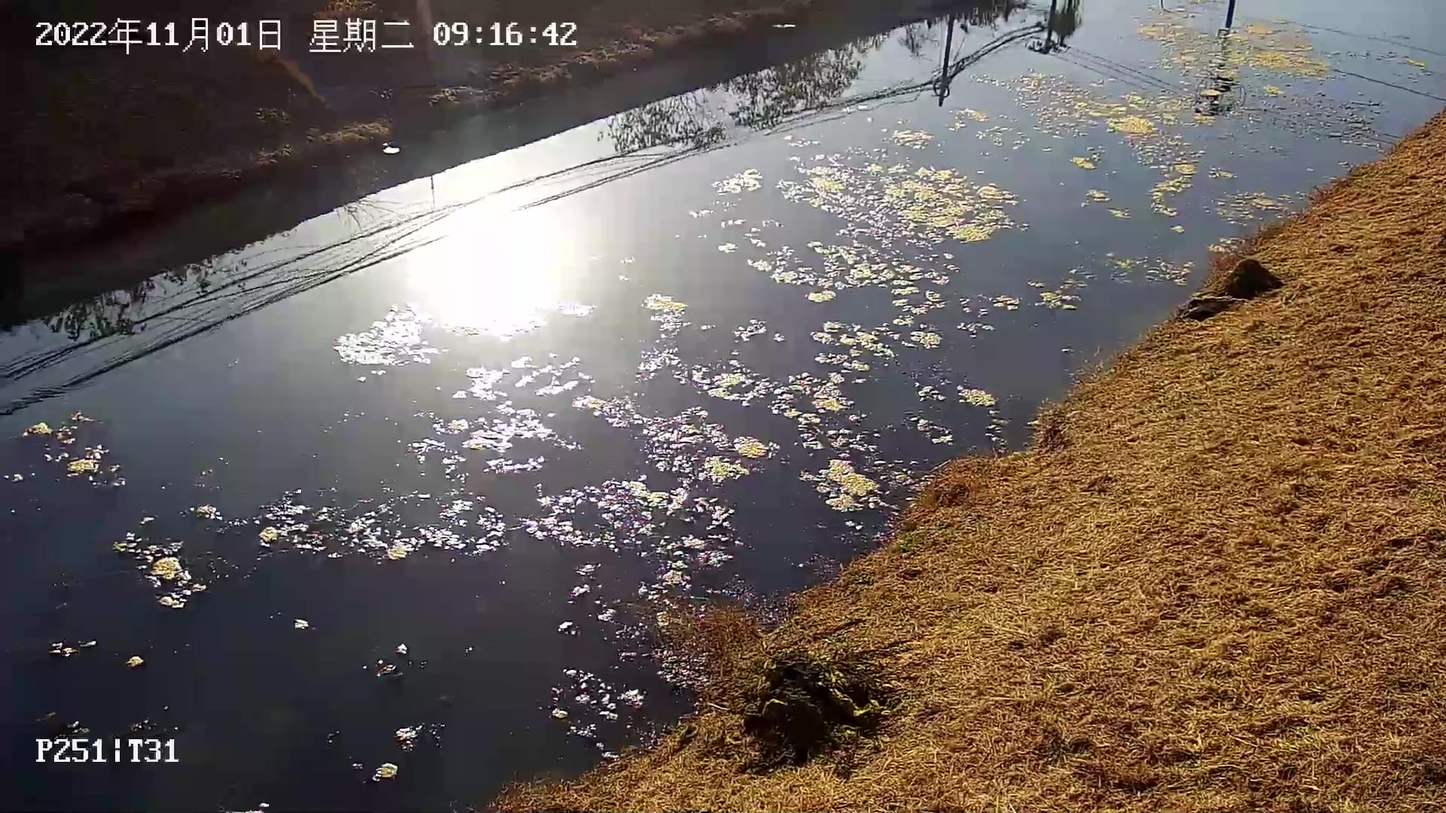floater: (695, 318, 899, 513), (774, 132, 1014, 245), (416, 356, 589, 486), (194, 491, 509, 558), (523, 476, 740, 568), (572, 390, 764, 484), (1137, 2, 1329, 81), (749, 245, 959, 315), (1008, 66, 1160, 142), (1032, 251, 1194, 309), (19, 410, 126, 492), (110, 530, 206, 611), (547, 665, 645, 744), (334, 302, 436, 372), (1133, 140, 1197, 217), (635, 292, 688, 383), (1213, 187, 1289, 224), (709, 167, 764, 202), (394, 719, 445, 755)
